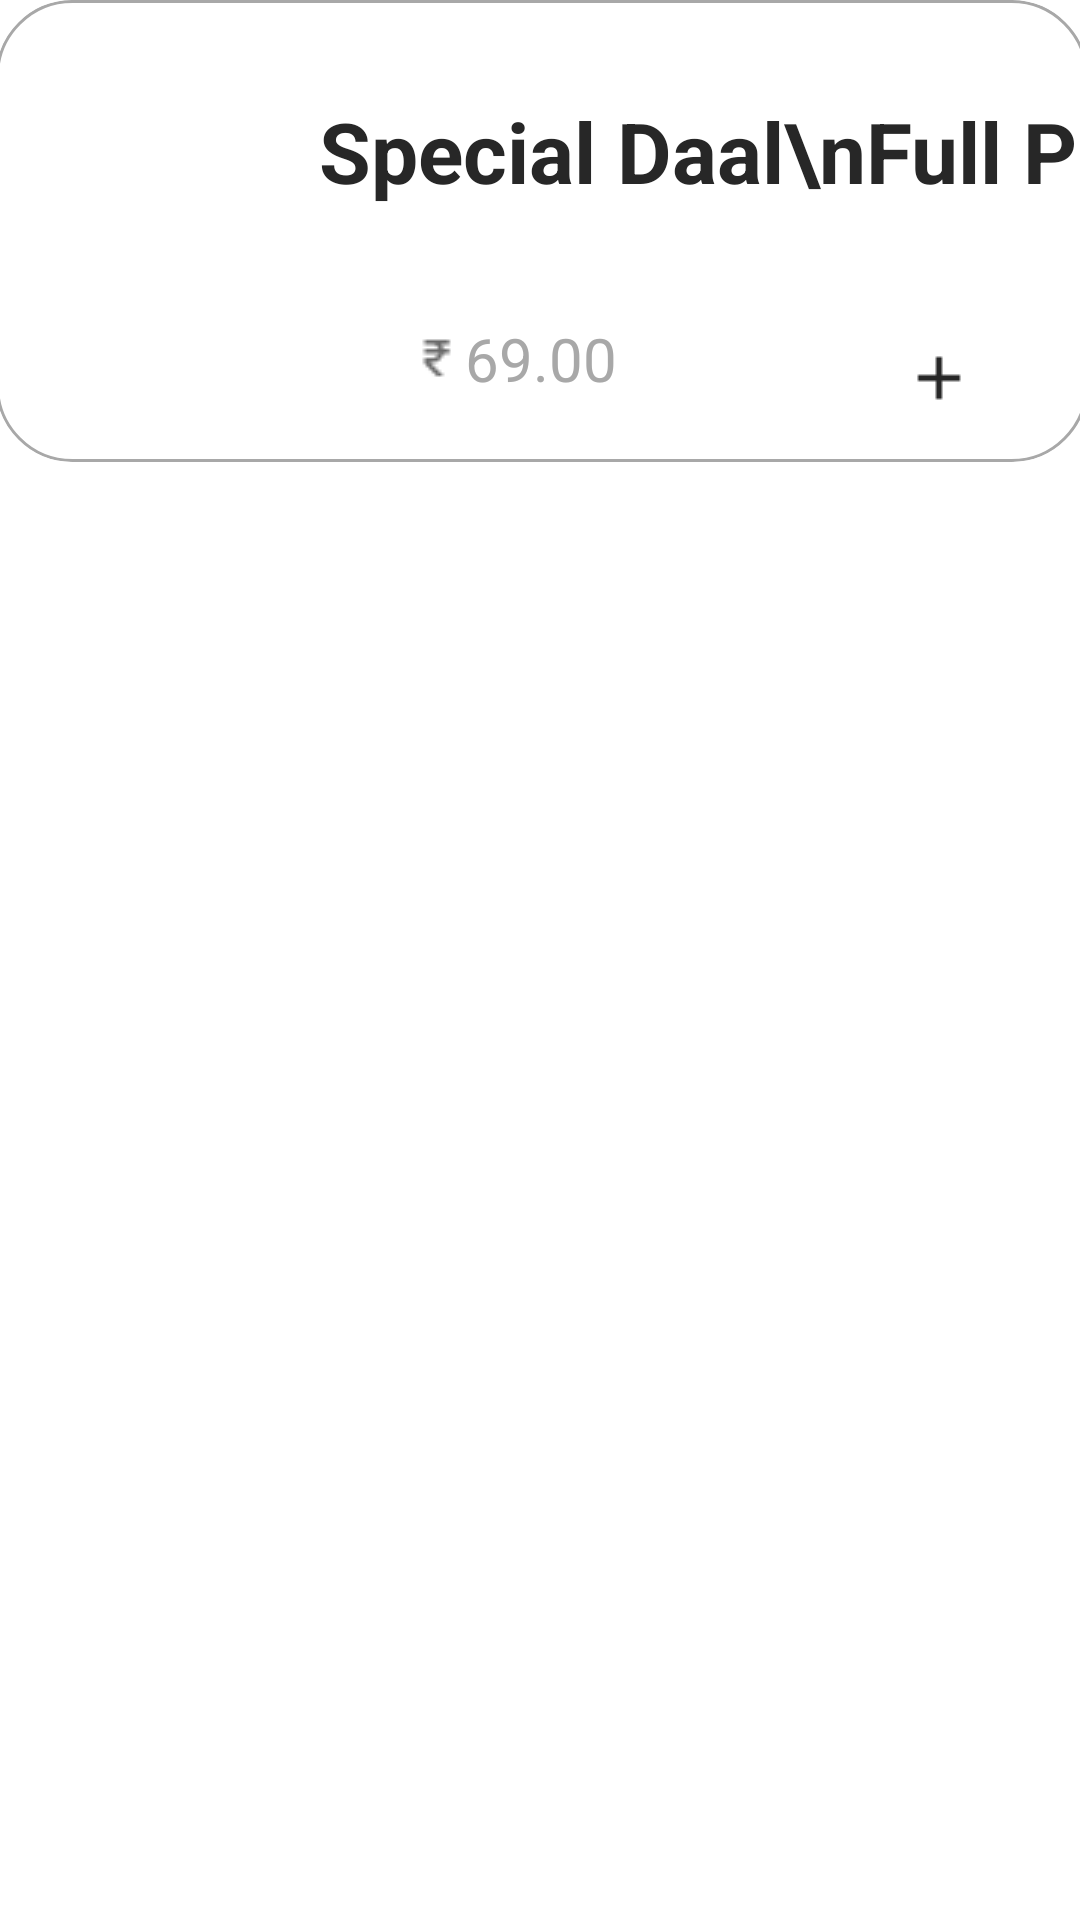

Named icons in this screenshot (1080 × 1920) and their bounding boxes, BBox(x1, y1, x2, y2):
plus: BBox(917, 356, 961, 400)
